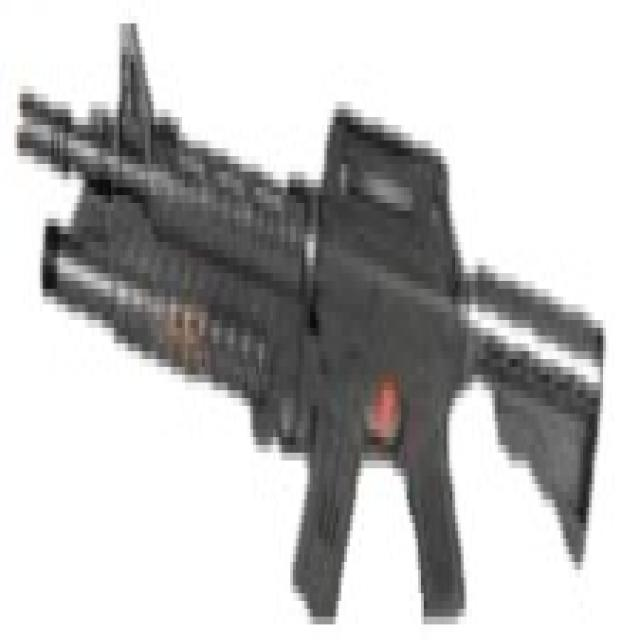rifle: (12, 7, 609, 640)
